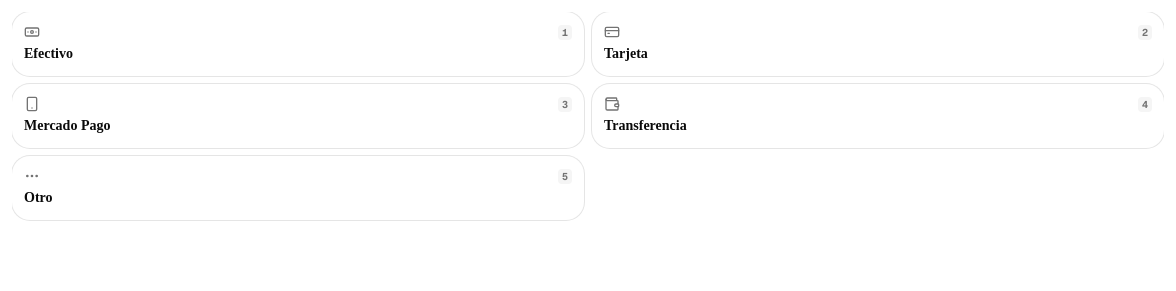
Test case: <CobroForm /> — las reglas de dinero, una sola vez › «otro» sigue exigiendo nota: es lo único que dice qué fue el cobro
Click the button "5 Otro" at [32, 176], box [12,156,584,220]
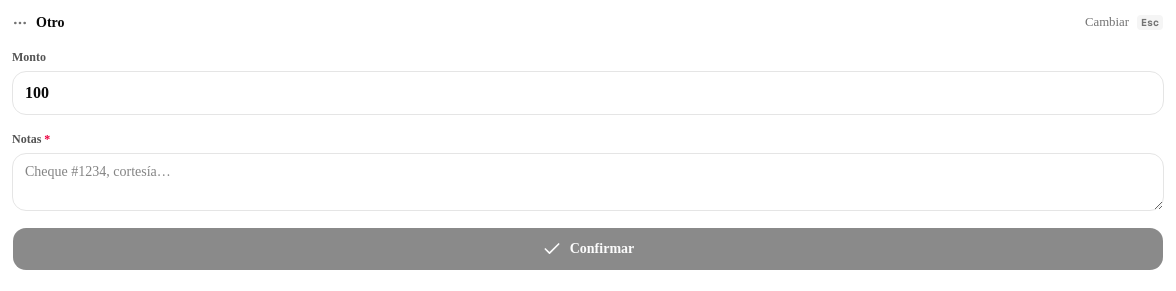
Check: the button "Confirmar" is disabled, box [12,227,1164,271]
Type "cheque 1234" into the text box labelled "Notas *" at [588, 182], box [12,153,1164,211]
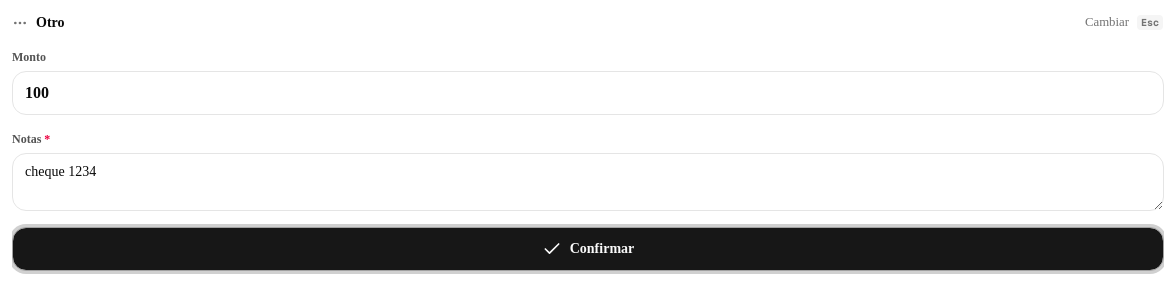
Check: the button "Confirmar" is enabled, box [12,227,1164,271]
